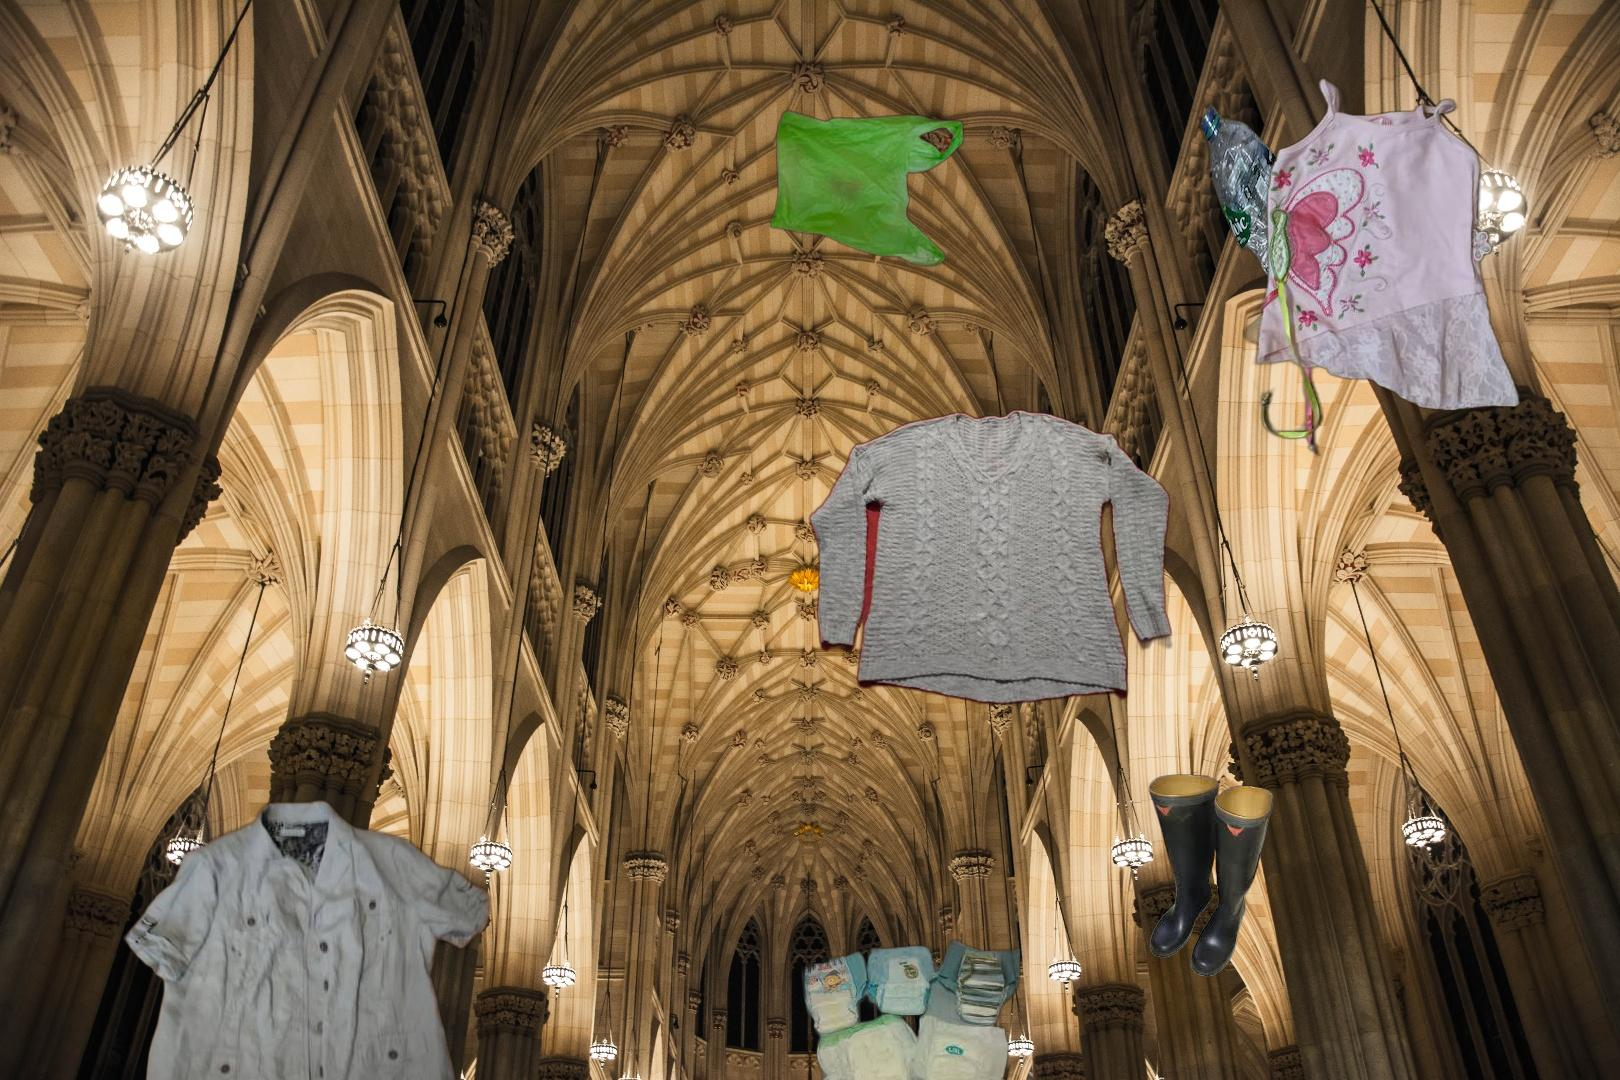clothes: (1235, 74, 1526, 459), (806, 406, 1175, 709), (121, 796, 494, 1080)
plastic-bag: (767, 108, 965, 270)
plastic-bottles: (1197, 98, 1336, 319)
shoes: (1146, 771, 1276, 979)
trash: (797, 937, 1022, 1080)
